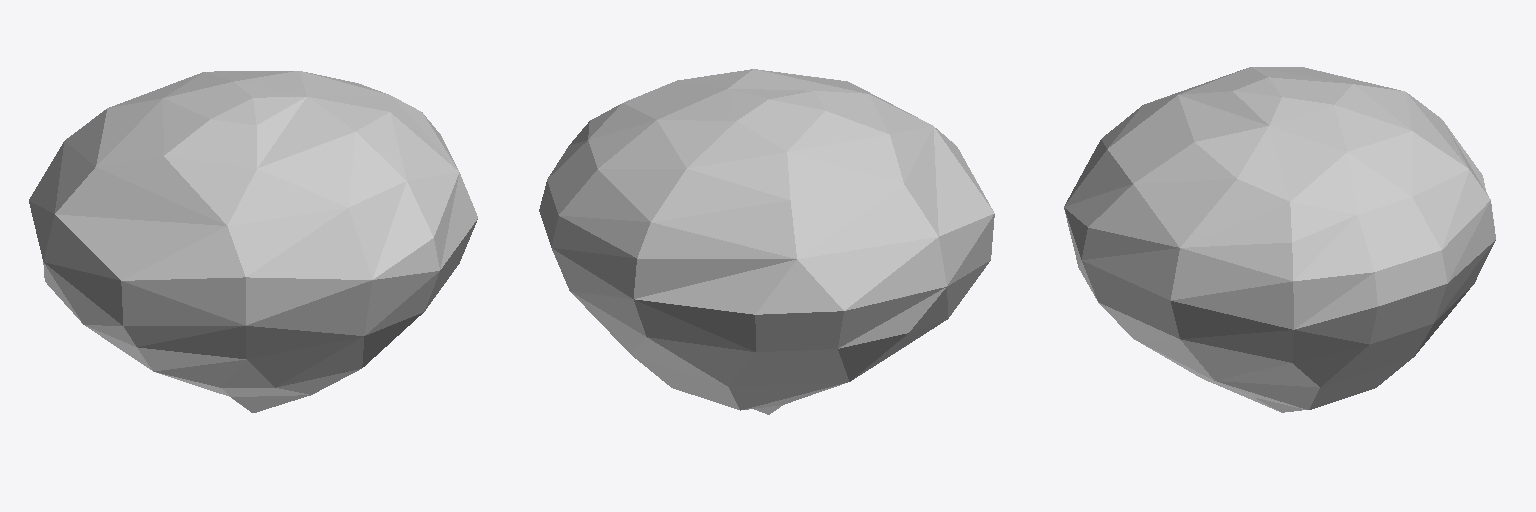
File: Green Gem.obj
3 views of the same model, side by side, from view 1: azimuth 30°, elevation 25°; view 2: azimuth 150°, elevation 25°; view 3: azimuth 270°, elevation 25° (orthographic).
Parts seen in each view (by area): view 1: Green_Gem; view 2: Green_Gem; view 3: Green_Gem.
Part boxes in pixels (x1,y1,x2,y2): Green_Gem: (29, 71, 477, 412); Green_Gem: (539, 69, 994, 414); Green_Gem: (1064, 67, 1495, 412).
Bounding box in the file's own units: 9.72 × 7.49 × 9.3.